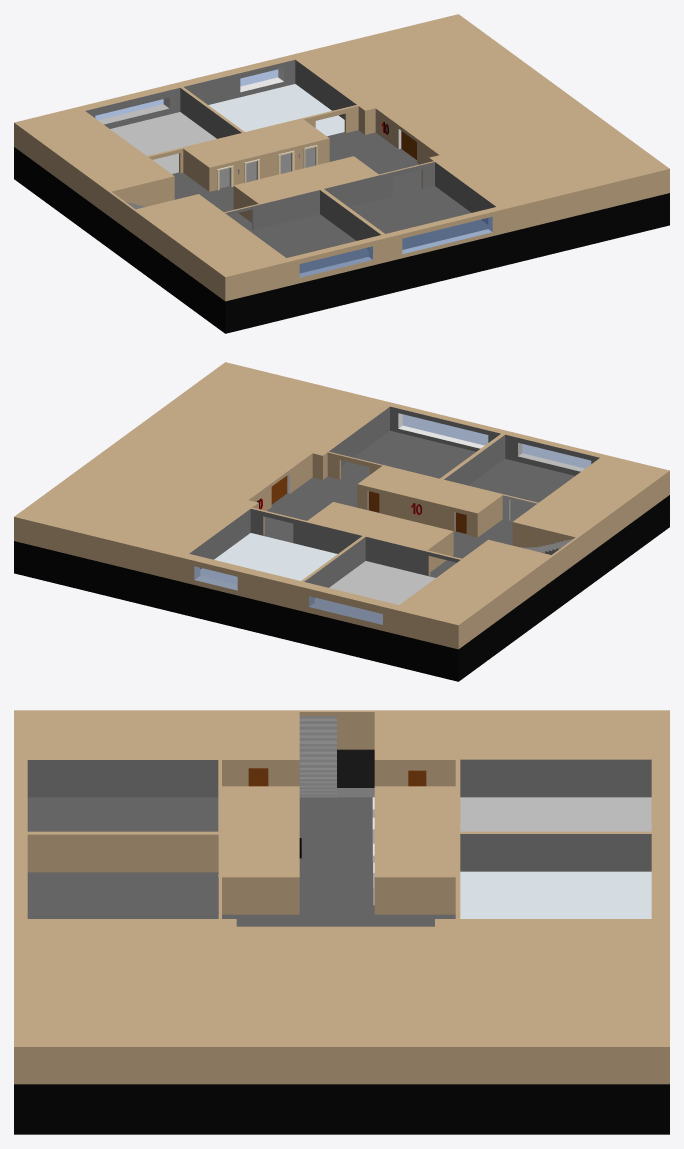
File: 10F-coloredNhan.gltf
3 renders of one model, top to bottom at view 1: azimuth 30°, elevation 25°; view 2: azimuth 150°, elevation 25°; view 3: azimuth 270°, elevation 25°, orthographic. The views are drawn at different scales.
Visible parts, largest first — view 1: root; view 2: root; view 3: root.
Part boxes in pixels (box(x1,y1,x2,y2)): root: box(14, 14, 669, 333); root: box(14, 362, 669, 681); root: box(14, 710, 669, 1134).
Size of the model in its own units: 44.7 by 5.43 by 36.81.
